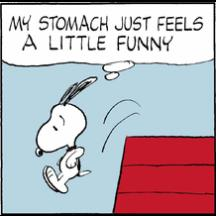snoopy: (35, 74, 99, 193)
